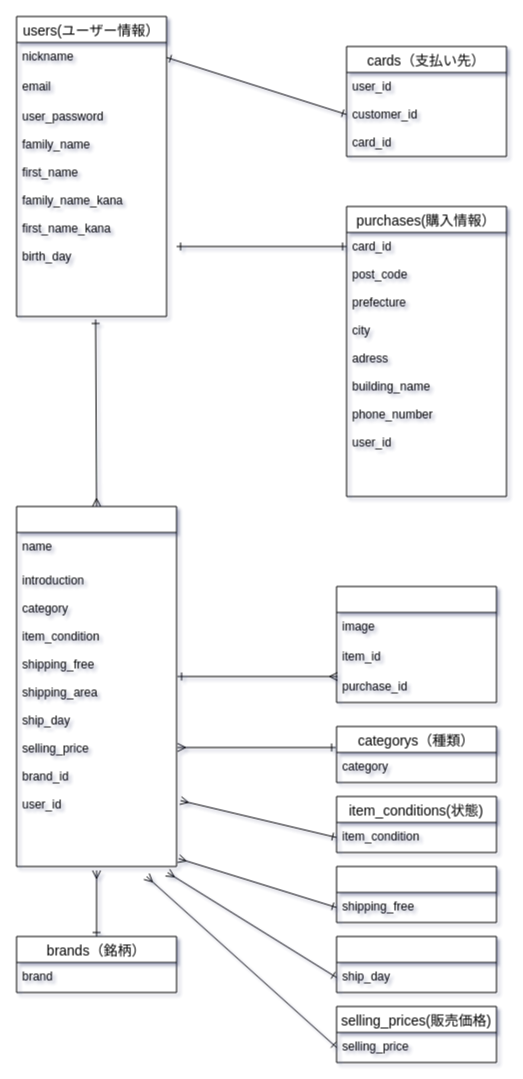
Image size: 523x1079. Some labels were removed from this diagram. The box of each missing label's shape, as (x1, y1, x2, y2) in pixels:
images（商品画像）: (336, 586, 496, 702)
items（商品情報）: (16, 506, 176, 866)
ship_days(発送日数): (336, 936, 496, 992)
shipping_frees(配送負担): (336, 866, 496, 922)
